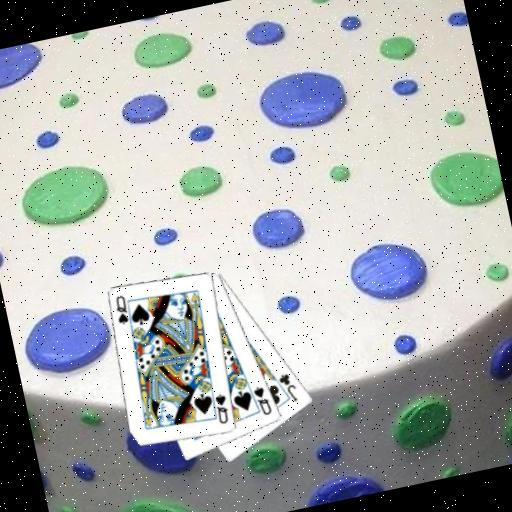JC: (274, 369, 301, 406)
QS: (249, 381, 274, 418), (210, 390, 232, 426), (110, 292, 132, 327)
